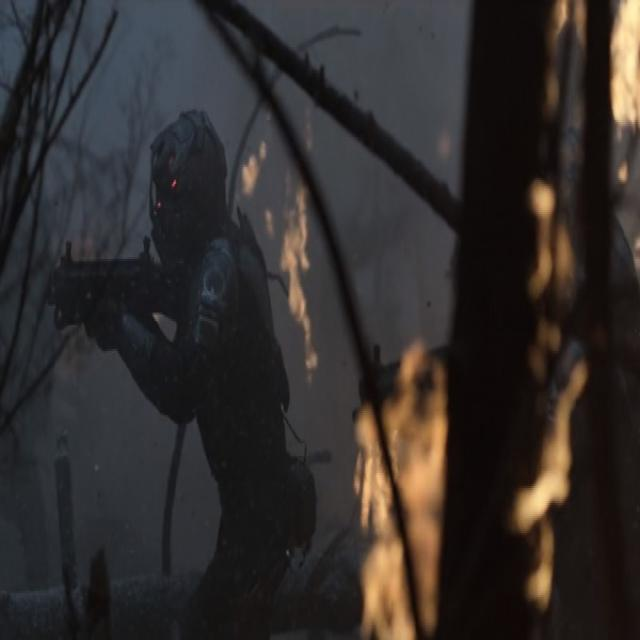rifle: (46, 224, 162, 346)
